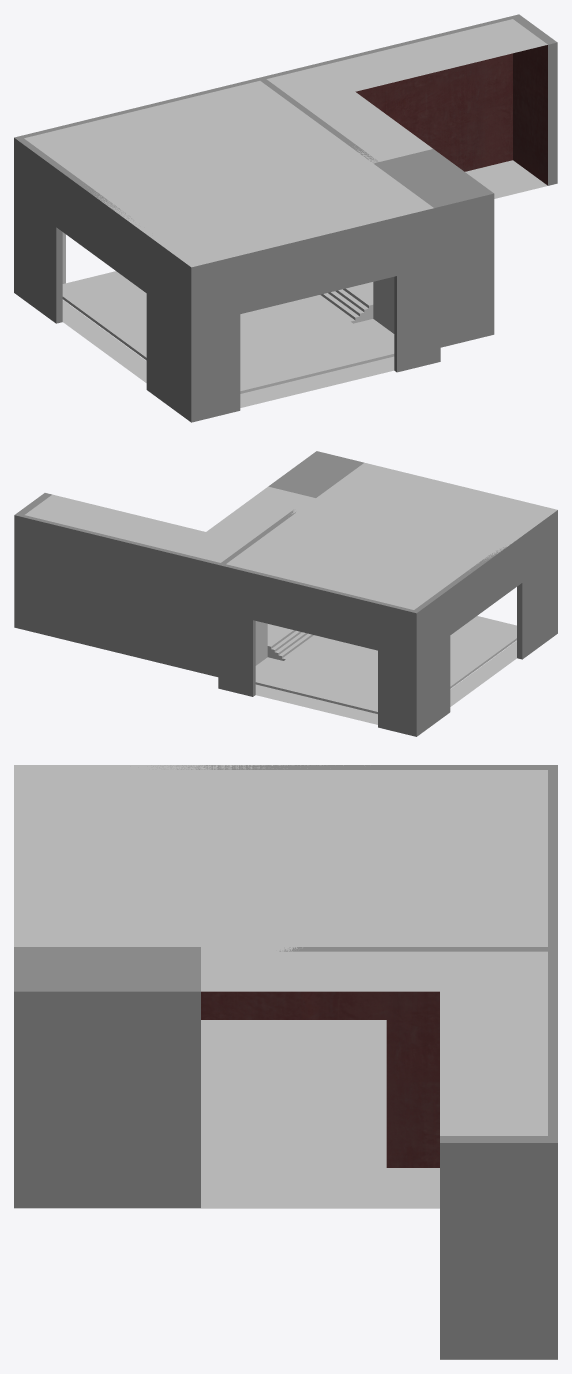
Rendered from dojo.FBX.
The picture shows the model from 3 angles, top to bottom: view 1: azimuth 30°, elevation 25°; view 2: azimuth 150°, elevation 25°; view 3: azimuth 270°, elevation 25°; orthographic projection. The views are drawn at different scales.
Visible parts, largest first — view 1: dojo_walls, dojo_ceiling, dojo_floor, river_4, river_3, river_2, river_1; view 2: dojo_walls, dojo_ceiling, dojo_floor, river_2, river_3, river_4; view 3: dojo_ceiling, dojo_walls, dojo_floor.
Boxes of the visible parts, x1,y1,x2,y2 form: dojo_walls: [14, 14, 557, 422]; dojo_ceiling: [24, 19, 547, 267]; dojo_floor: [62, 160, 547, 393]; river_4: [240, 356, 394, 407]; river_3: [62, 300, 146, 382]; river_2: [62, 271, 126, 294]; river_1: [353, 319, 394, 353]; dojo_walls: [14, 451, 557, 736]; dojo_ceiling: [25, 462, 557, 609]; dojo_floor: [255, 622, 516, 713]; river_2: [255, 684, 377, 724]; river_3: [450, 641, 516, 706]; river_4: [468, 616, 516, 634]; dojo_ceiling: [14, 765, 547, 1135]; dojo_walls: [14, 765, 557, 1359]; dojo_floor: [201, 1021, 557, 1359].
Size of the model in its own units: 1048 by 307 by 637.
